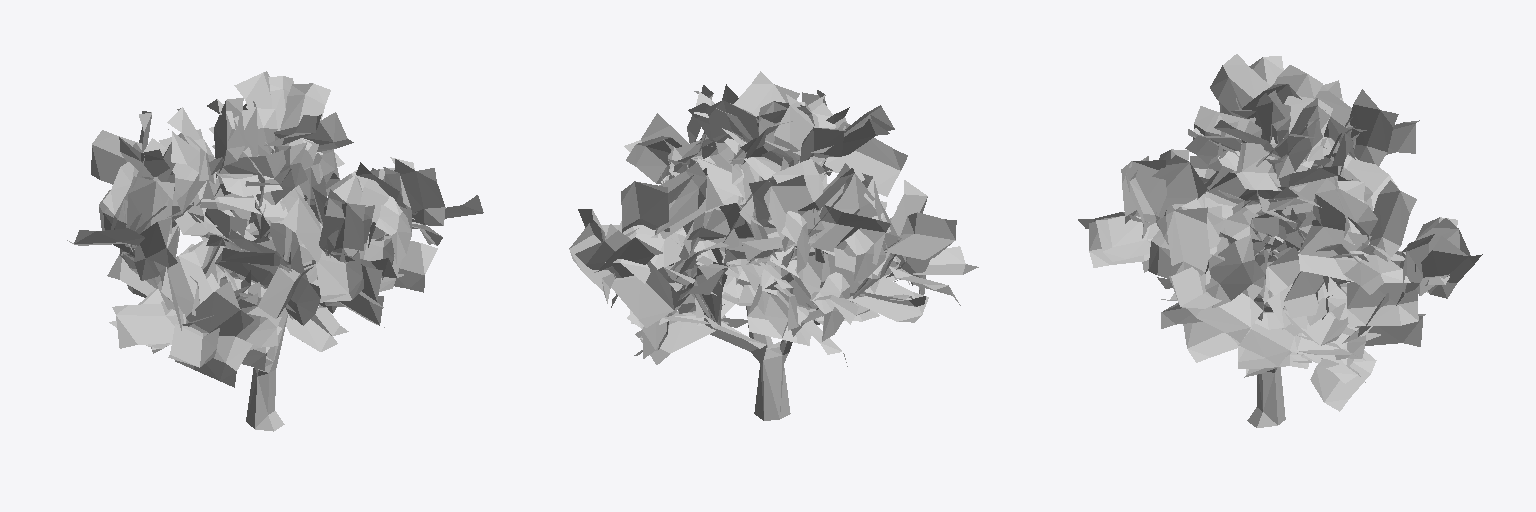
The model's file is lowpolytree.obj.
3 renders of one model, left to right at view 1: azimuth 30°, elevation 25°; view 2: azimuth 150°, elevation 25°; view 3: azimuth 270°, elevation 25°, orthographic.
Parts seen in each view (by area): view 1: Leaves, Tree; view 2: Leaves, Tree; view 3: Leaves, Tree.
Boxes of the visible parts, <box> form: Leaves: <box>67,71,483,387</box>; Tree: <box>134,151,388,431</box>; Leaves: <box>569,71,978,366</box>; Tree: <box>665,238,900,420</box>; Leaves: <box>1078,54,1482,411</box>; Tree: <box>1247,326,1367,427</box>.
Bounding box in the file's own units: 14.51 × 12.3 × 13.76.